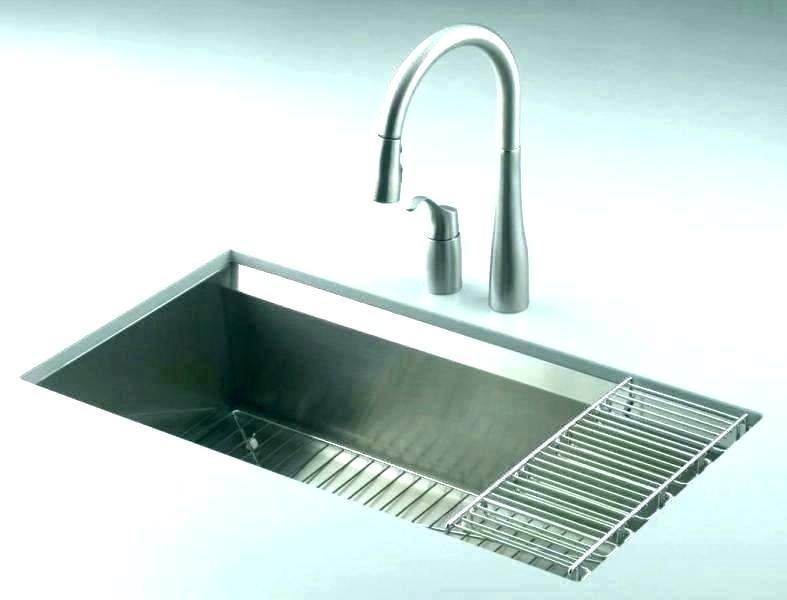Lavaplatos: (24, 31, 746, 573)
